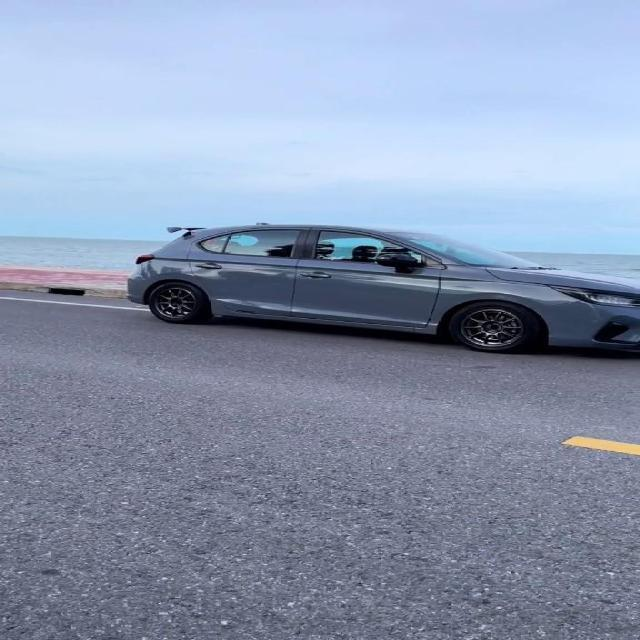Hatchback: (127, 223, 639, 352)
